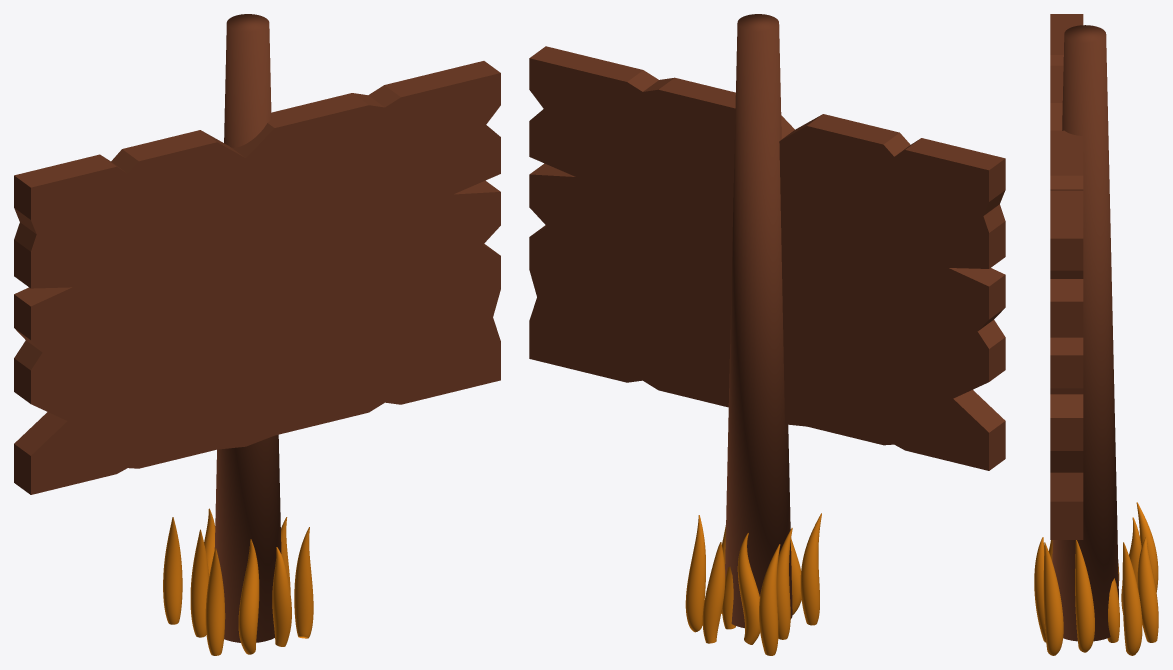
Rendered from Schild_mit_Gras_Orange.fbx.
3 renders of one model, left to right at view 1: azimuth 30°, elevation 25°; view 2: azimuth 150°, elevation 25°; view 3: azimuth 270°, elevation 25°, orthographic. The views are drawn at different scales.
Visible parts, largest first — view 1: Circle.006, NurbsPath.001; view 2: Circle.006, NurbsPath.001; view 3: Circle.006, NurbsPath.001.
Part boxes in pixels (left/top/right/bottom): Circle.006: left=14, top=14, right=500, bottom=642; NurbsPath.001: left=163, top=508, right=313, bottom=655; Circle.006: left=529, top=14, right=1005, bottom=628; NurbsPath.001: left=685, top=513, right=821, bottom=655; Circle.006: left=1050, top=14, right=1118, bottom=641; NurbsPath.001: left=1034, top=502, right=1158, bottom=655.
Bounding box in the file's own units: 124 × 155 × 29.11.
